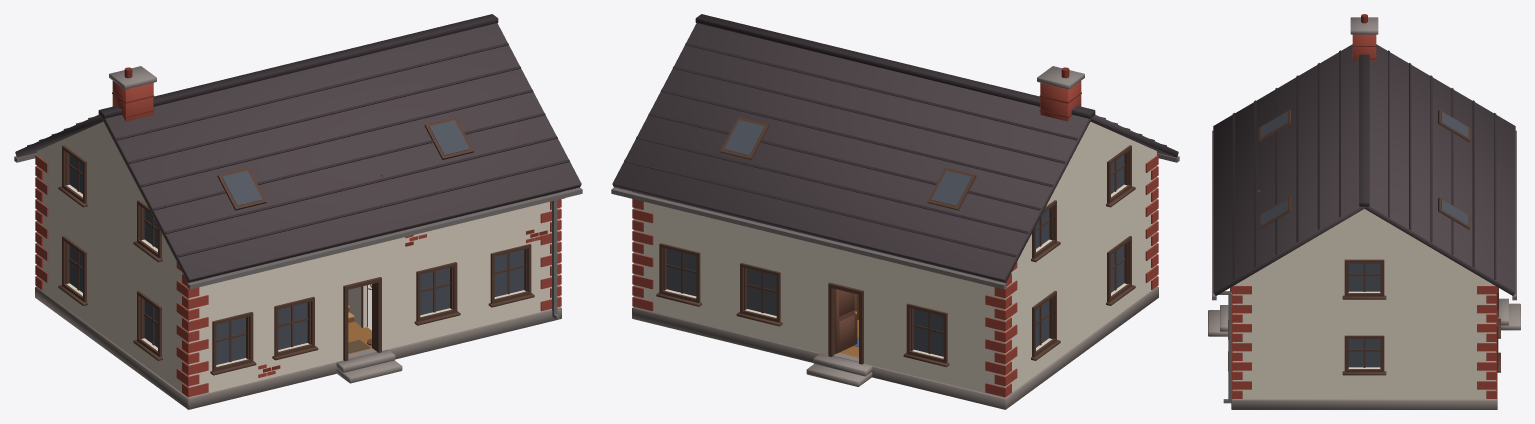
File: HouseInterior.fbx
The picture shows the model from 3 angles, left to right: view 1: azimuth 30°, elevation 25°; view 2: azimuth 150°, elevation 25°; view 3: azimuth 270°, elevation 25°; orthographic projection. The views are drawn at different scales.
Parts seen in each view (by area): view 1: HouseInterior_Shell; view 2: HouseInterior_Shell, BackDoor; view 3: HouseInterior_Shell.
Boxes of the visible parts, box(x1,y1,x2,y2) form: HouseInterior_Shell: box(14, 14, 582, 409); HouseInterior_Shell: box(611, 14, 1179, 409); BackDoor: box(835, 289, 857, 353); HouseInterior_Shell: box(1208, 14, 1520, 409).
Bounding box in the file's own units: 12.76 × 8.68 × 10.1.
